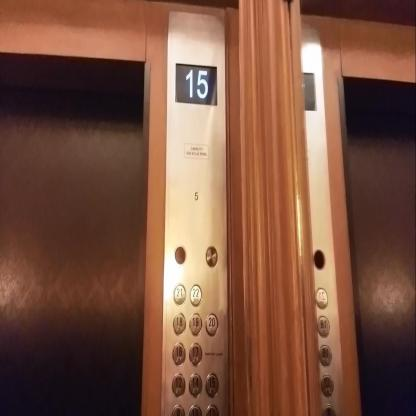12: (171, 372, 185, 398)
14: (188, 372, 202, 398)
15: (204, 372, 219, 398)
16: (171, 341, 186, 367)
17: (188, 341, 202, 366)
18: (172, 311, 186, 335)
19: (188, 312, 203, 336)
20: (204, 312, 218, 336)
21: (173, 283, 186, 306)
22: (189, 282, 202, 306)
empty: (204, 244, 218, 268), (312, 248, 326, 270), (174, 245, 186, 264)
led: (175, 62, 218, 106)
unknown: (314, 286, 328, 309), (317, 314, 330, 338), (319, 344, 332, 368), (321, 373, 333, 398)
